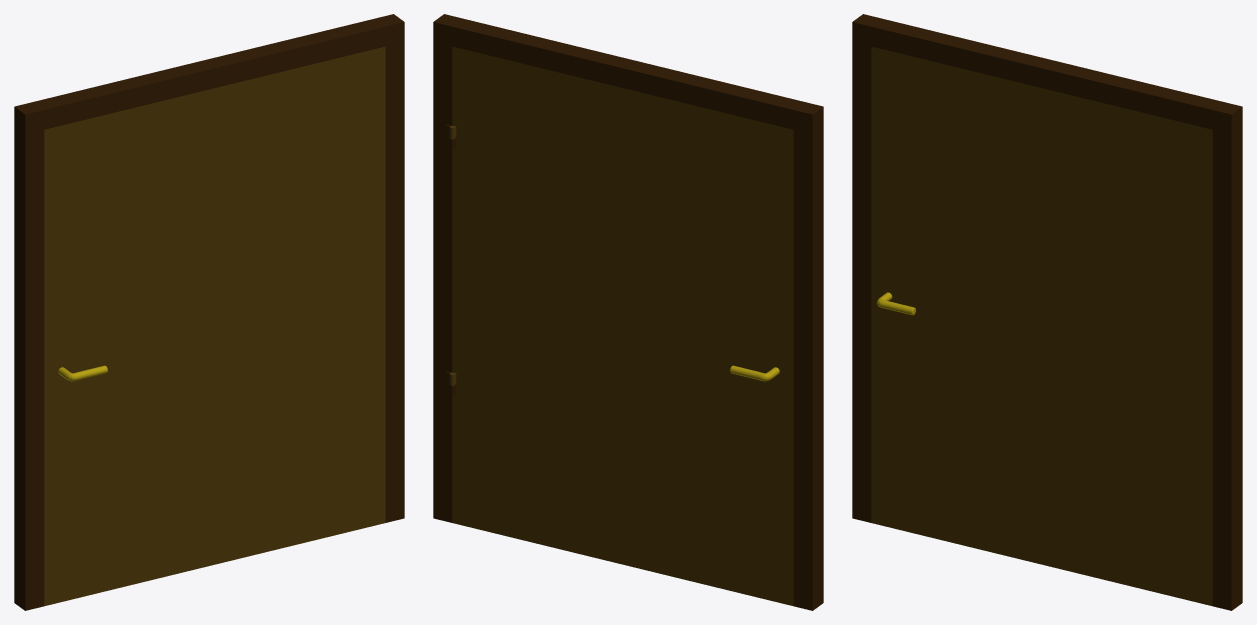
The model's file is door1.glb.
3 views of the same model, side by side, from view 1: azimuth 30°, elevation 25°; view 2: azimuth 150°, elevation 25°; view 3: azimuth 330°, elevation 25° (orthographic).
Parts seen in each view (by area): view 1: door, doorpost; view 2: door, doorpost; view 3: door, doorpost.
Part boxes in pixels (x1=…): door: x1=44, y1=46, x2=385, y2=606; doorpost: x1=14, y1=14, x2=404, y2=610; door: x1=449, y1=46, x2=793, y2=606; doorpost: x1=433, y1=14, x2=823, y2=610; door: x1=871, y1=46, x2=1212, y2=606; doorpost: x1=852, y1=14, x2=1242, y2=610.
Bounding box in the file's own units: 2 × 2.5 × 0.3112.
